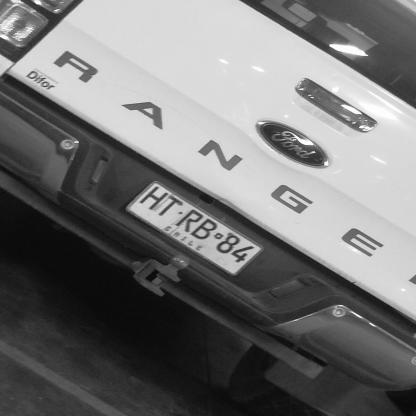Patente: (117, 166, 269, 277)
